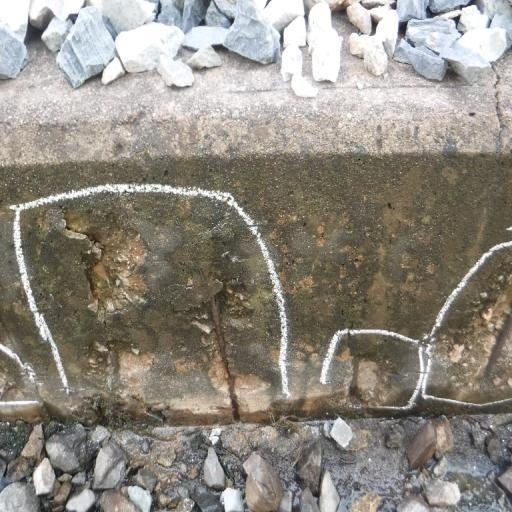exposed_rebar: (211, 297, 240, 420), (485, 309, 512, 376), (85, 259, 98, 300), (88, 234, 96, 246)
spalling: (43, 206, 148, 322)
